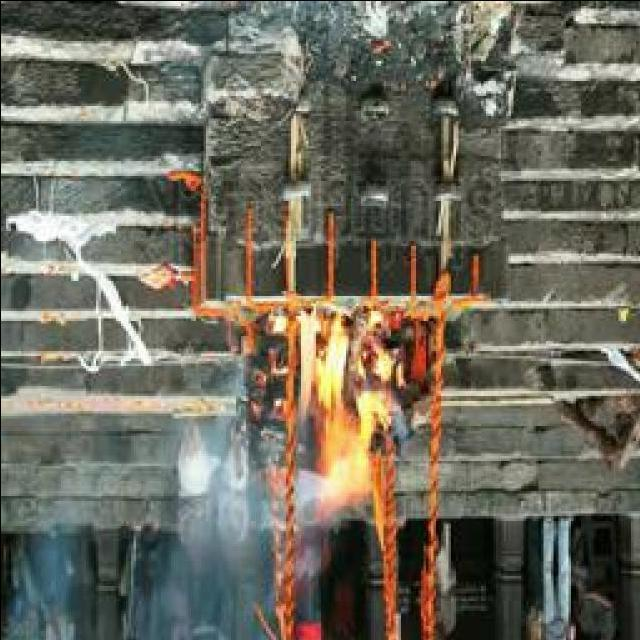Fire: (292, 301, 394, 504)
